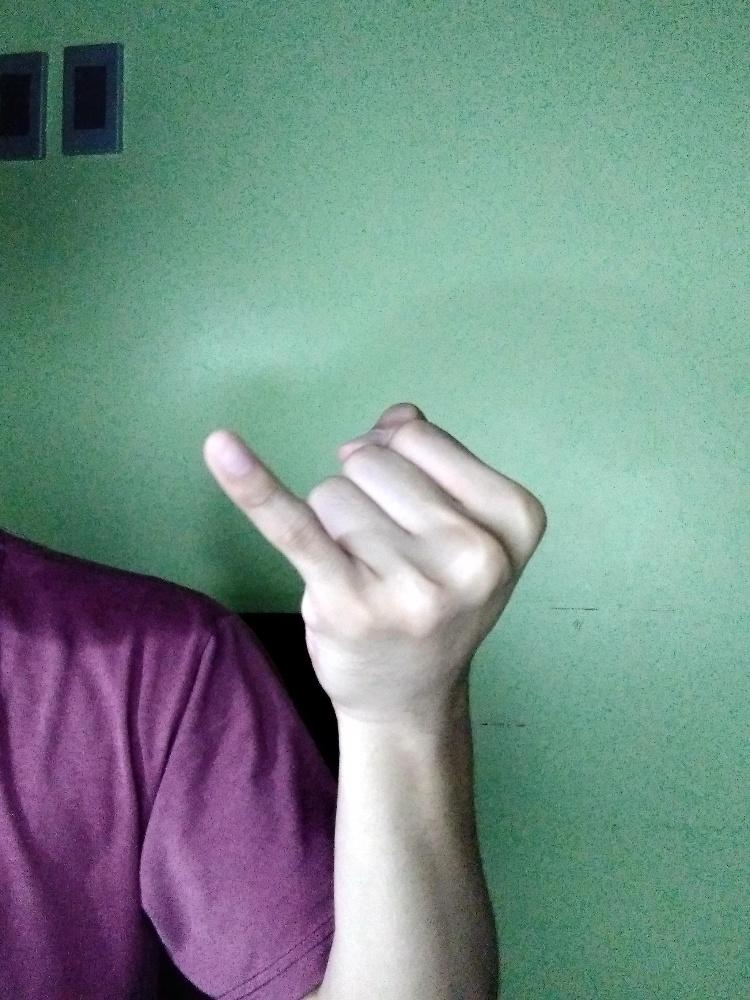j: (198, 396, 550, 719)
